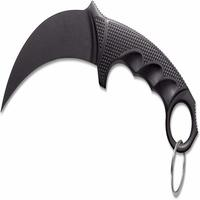knife: (2, 5, 176, 120)
